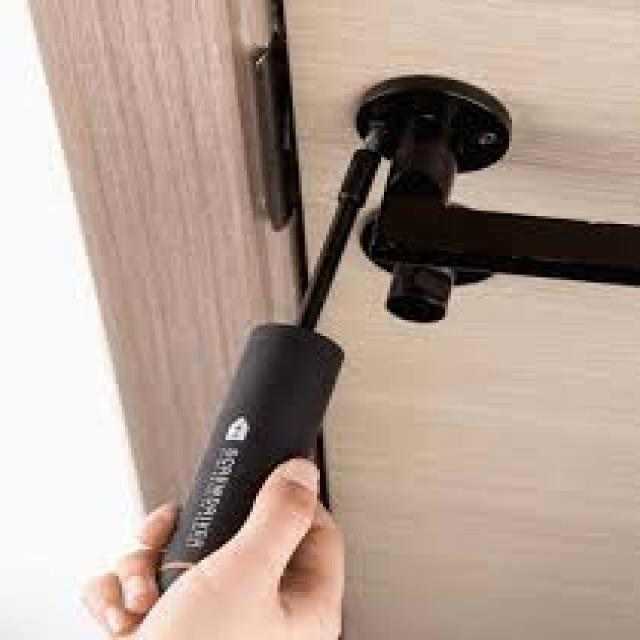screwdriver: (148, 116, 394, 634)
